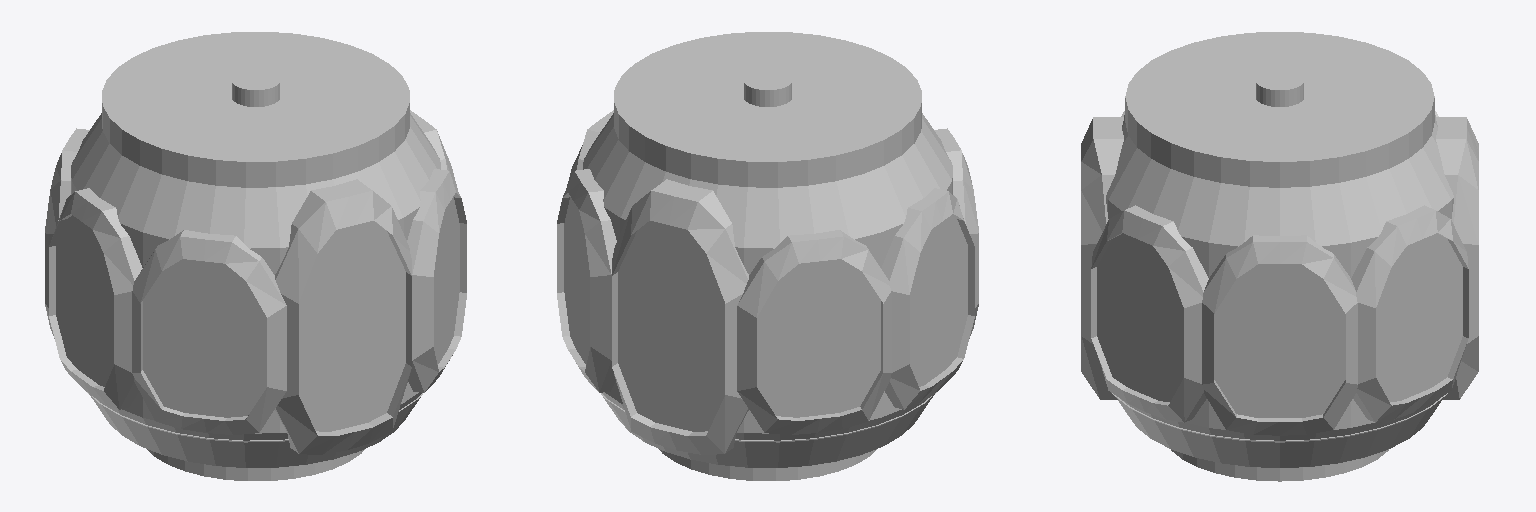
File: ElevatorPod.obj
The picture shows the model from 3 angles: view 1: azimuth 30°, elevation 25°; view 2: azimuth 150°, elevation 25°; view 3: azimuth 270°, elevation 25°; orthographic projection.
Size of the model in its own units: 30.38 by 29.3 by 29.97.